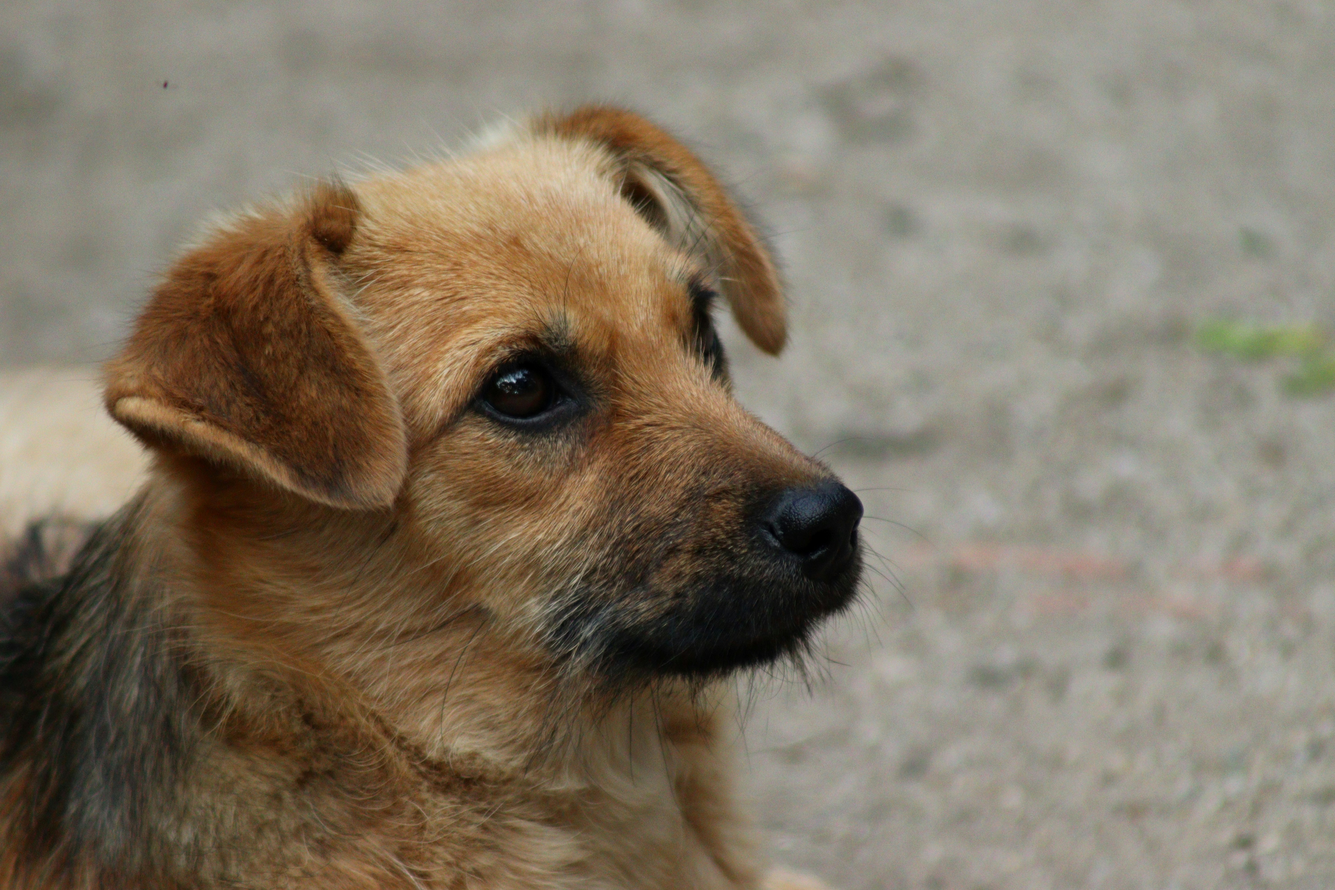dog-nose-detector: (757, 483, 862, 572)
